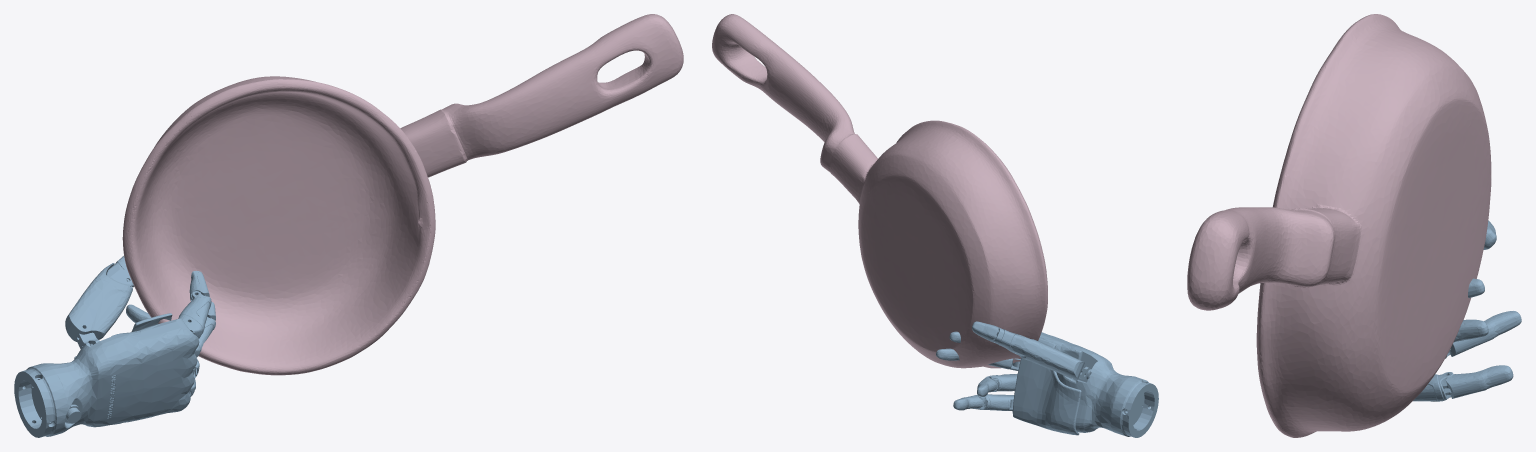
The picture shows the model from 3 angles, left to right: view 1: azimuth 30°, elevation 25°; view 2: azimuth 150°, elevation 25°; view 3: azimuth 270°, elevation 25°; orthographic projection. The views are drawn at different scales.
Visible parts, largest first — view 1: obj_mesh_grasp_25.obj, world; view 2: obj_mesh_grasp_25.obj, world; view 3: obj_mesh_grasp_25.obj, world.
Boxes of the visible parts, x1,y1,x2,y2 form: obj_mesh_grasp_25.obj: (122,14,683,375); world: (14,256,215,437); obj_mesh_grasp_25.obj: (712,14,1047,368); world: (936,321,1158,437); obj_mesh_grasp_25.obj: (1187,14,1491,437); world: (1413,220,1521,401).
Size of the model in its own units: 0.5118 by 0.2826 by 0.1874.
